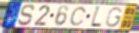2: (33, 5, 51, 27)
6: (54, 5, 70, 27)
C: (69, 7, 87, 27)
G: (105, 7, 124, 29)
L: (89, 6, 103, 29)
S: (16, 4, 36, 27)
